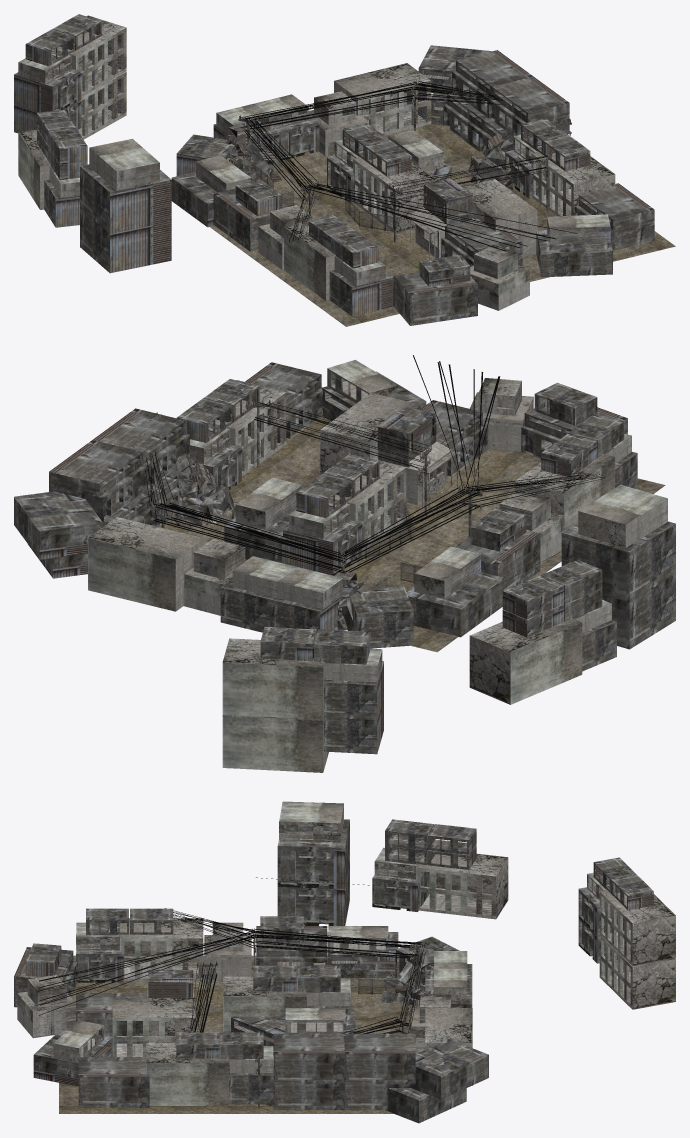
Rendered from ayvadisi.glb.
3 renders of one model, top to bottom at view 1: azimuth 30°, elevation 25°; view 2: azimuth 150°, elevation 25°; view 3: azimuth 270°, elevation 25°, orthographic. The views are drawn at different scales.
Parts seen in each view (by area): view 1: Plane_002, Cube_039, Cube_059, Cube_061, Cube_026, Cube_042, Cube_022, Cube_014, Cube_032, Cube_015, Cube_044, Cube_047 (+54 smaller); view 2: Plane_002, Cube_039, Cube_052, Cube_047, Cube_067, Cube_059, Cube_023, Cube_041, Cube_060, Cube_005, Cube_022, Cube_032 (+56 smaller); view 3: Plane_002, Cube_052, Cube_015, Cube, Cube_047, Cube_059, Cube_022, Cube_023, Cube_014, Cube_032, Cube_041, Cube_067 (+53 smaller).
Part boxes in pixels (<box>): Plane_002: <box>209,124,675,326</box>; Cube_039: <box>334,63,431,135</box>; Cube_059: <box>80,164,171,233</box>; Cube_061: <box>80,205,171,273</box>; Cube_026: <box>353,157,436,232</box>; Cube_042: <box>393,272,477,325</box>; Cube_022: <box>488,76,569,135</box>; Cube_014: <box>575,183,654,250</box>; Cube_032: <box>462,179,537,256</box>; Cube_015: <box>531,151,615,216</box>; Cube_044: <box>470,244,529,310</box>; Cube_047: <box>54,15,126,96</box>; Plane_002: <box>158,416,665,652</box>; Cube_039: <box>88,517,204,611</box>; Cube_052: <box>469,618,582,704</box>; Cube_047: <box>222,638,325,719</box>; Cube_067: <box>222,715,328,772</box>; Cube_059: <box>561,521,675,602</box>; Cube_023: <box>49,440,146,522</box>; Cube_041: <box>14,491,103,559</box>; Cube_060: <box>578,484,667,547</box>; Cube_005: <box>406,572,503,637</box>; Cube_022: <box>92,408,189,489</box>; Cube_032: <box>320,393,420,474</box>; Plane_002: <box>59,955,418,1113</box>; Cube_052: <box>416,853,508,919</box>; Cube_015: <box>146,1043,229,1105</box>; Cube: <box>120,918,203,980</box>; Cube_047: <box>599,890,675,966</box>; Cube_059: <box>277,819,349,888</box>; Cube_022: <box>273,1033,344,1084</box>; Cube_023: <box>345,1033,415,1084</box>; Cube_014: <box>78,1057,149,1107</box>; Cube_032: <box>112,997,195,1056</box>; Cube_041: <box>409,1039,488,1099</box>; Cube_067: <box>599,936,675,1009</box>.
Size of the model in its own units: 52 by 12.6 by 63.98.
6 materials, 5 textured.
